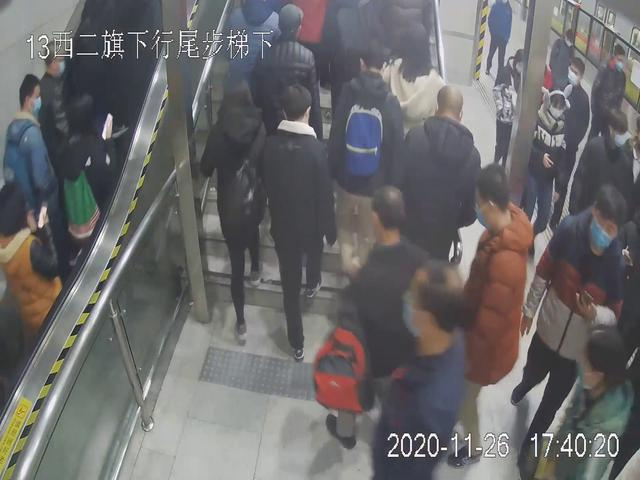person: (506, 183, 629, 471), (444, 164, 539, 454), (257, 86, 349, 364), (196, 72, 280, 347), (332, 48, 411, 264), (1, 65, 69, 249), (260, 2, 329, 156), (3, 175, 66, 341)
